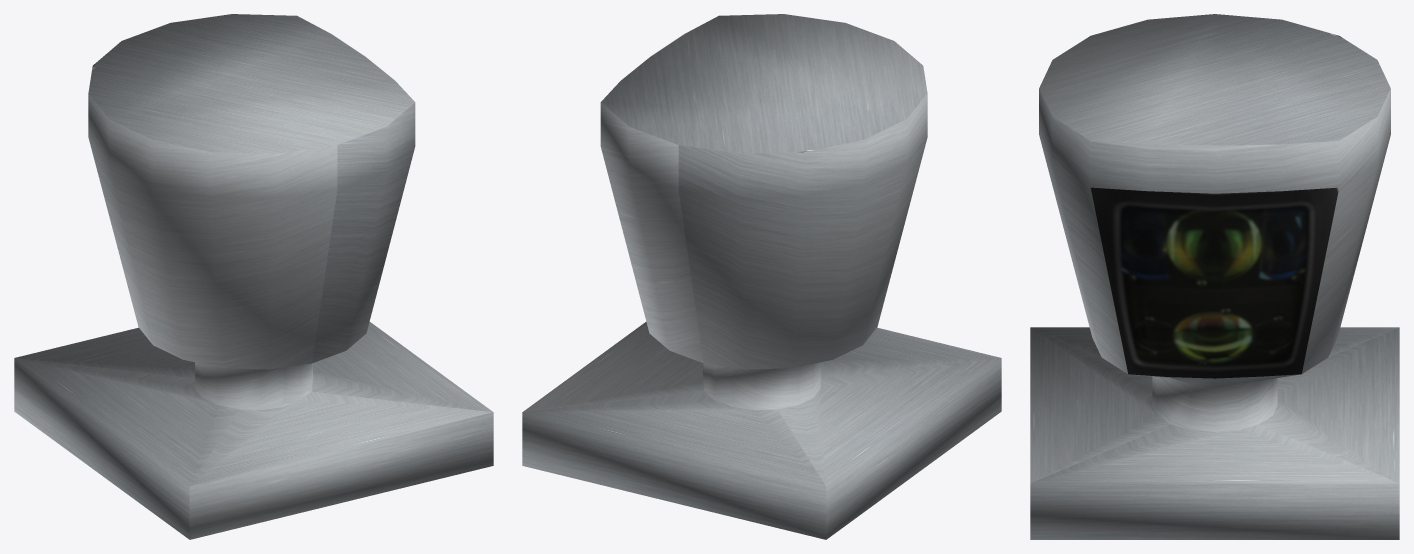
File: LidarSensor.fbx
3 renders of one model, left to right at view 1: azimuth 30°, elevation 25°; view 2: azimuth 150°, elevation 25°; view 3: azimuth 270°, elevation 25°, orthographic. The views are drawn at different scales.
Visible parts, largest first — view 1: Cube; view 2: Cube; view 3: Cube.
Part boxes in pixels (box(x1,y1,x2,y2)): Cube: box(14, 14, 493, 539); Cube: box(522, 14, 1001, 539); Cube: box(1030, 14, 1399, 539).
Size of the model in its own units: 157 by 175 by 157.
